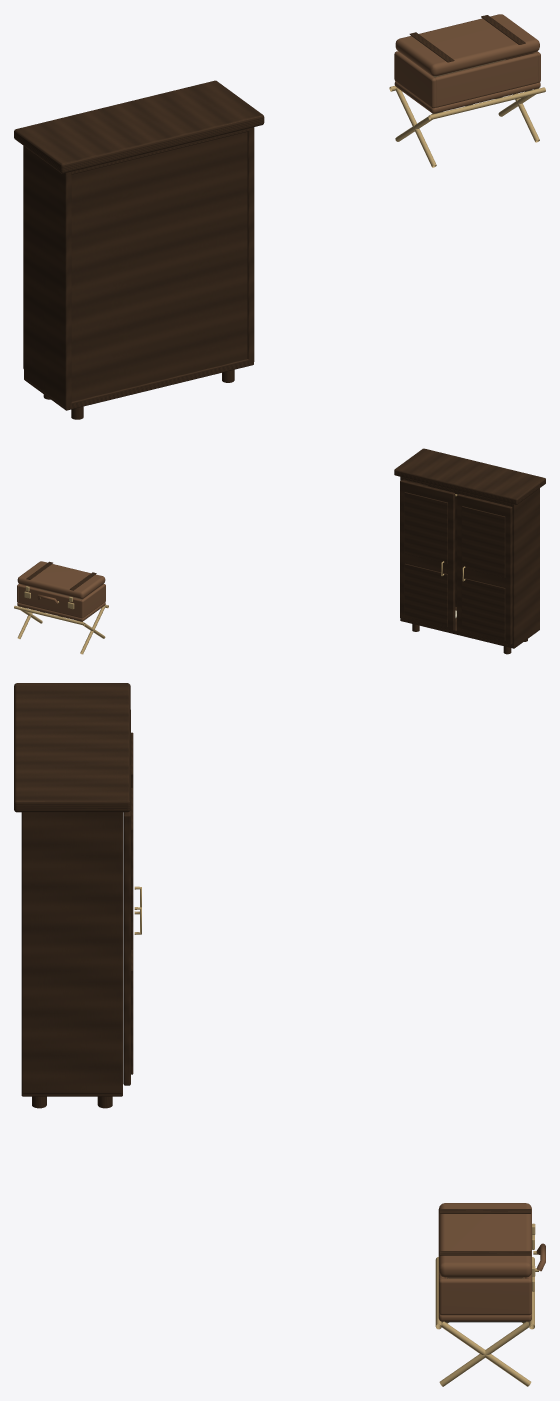
The model's file is bedroom-fixtures-316.glb.
3 views of the same model, one above another, from view 1: azimuth 30°, elevation 25°; view 2: azimuth 150°, elevation 25°; view 3: azimuth 270°, elevation 25° (orthographic). The views are drawn at different scales.
Parts seen in each view (by area): view 1: Merged | Smoked oak | fine vertical grain.007, Merged | Travel case | dark cognac leather, Travel case | padded lid, Merged | Aged champagne brass.009, Merged | Smoked oak | fine vertical grain.010; view 2: Merged | Smoked oak | fine vertical grain.007, Merged | Smoked oak | fine vertical grain.009, Merged | Smoked oak | fine vertical grain.008, Merged | Travel case | dark cognac leather, Travel case | padded lid, Merged | Aged champagne brass.009; view 3: Merged | Smoked oak | fine vertical grain.007, Travel case | padded lid, Merged | Travel case | dark cognac leather, Merged | Smoked oak | fine vertical grain.009, Merged | Aged champagne brass.009, Merged | Smoked oak | fine vertical grain.010.
Boxes of the visible parts, <box> form: Merged | Smoked oak | fine vertical grain.007: <box>14,80,264,419</box>; Merged | Travel case | dark cognac leather: <box>394,51,540,113</box>; Travel case | padded lid: <box>395,14,539,76</box>; Merged | Aged champagne brass.009: <box>389,85,545,167</box>; Merged | Smoked oak | fine vertical grain.010: <box>409,15,525,62</box>; Merged | Smoked oak | fine vertical grain.007: <box>394,448,545,654</box>; Merged | Smoked oak | fine vertical grain.009: <box>400,480,455,630</box>; Merged | Smoked oak | fine vertical grain.008: <box>457,494,512,644</box>; Merged | Travel case | dark cognac leather: <box>17,584,105,621</box>; Travel case | padded lid: <box>17,561,105,598</box>; Merged | Aged champagne brass.009: <box>14,605,108,654</box>; Merged | Smoked oak | fine vertical grain.007: <box>14,683,130,1108</box>; Travel case | padded lid: <box>438,1203,531,1277</box>; Merged | Travel case | dark cognac leather: <box>438,1243,545,1321</box>; Merged | Smoked oak | fine vertical grain.009: <box>123,765,133,1085</box>; Merged | Aged champagne brass.009: <box>435,1257,534,1386</box>; Merged | Smoked oak | fine vertical grain.010: <box>439,1209,531,1255</box>.
Bounding box in the file's own units: 6.66 × 2.59 × 3.88.
8 materials, 3 textured.
